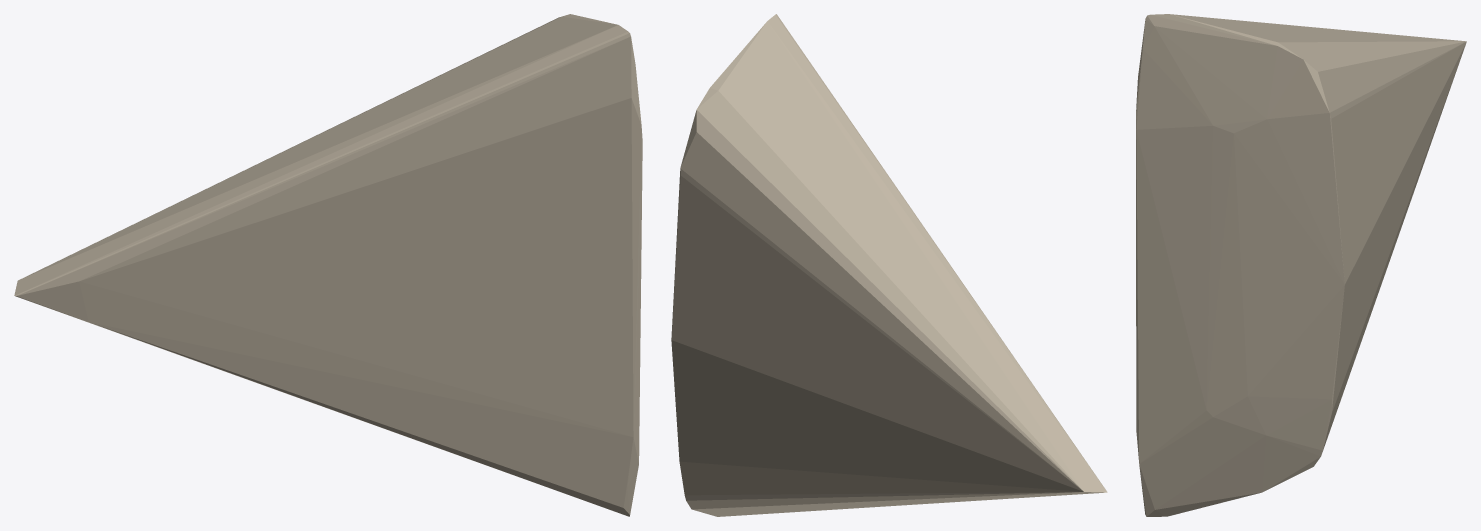
File: misc_eyeGlasses_b01.glb
3 renders of one model, left to right at view 1: azimuth 30°, elevation 25°; view 2: azimuth 150°, elevation 25°; view 3: azimuth 270°, elevation 25°, orthographic. The views are drawn at different scales.
Parts seen in each view (by area): view 1: geometry_0; view 2: geometry_0; view 3: geometry_0.
Part boxes in pixels (x1=…): geometry_0: x1=14, y1=14, x2=642, y2=516; geometry_0: x1=671, y1=14, x2=1107, y2=516; geometry_0: x1=1136, y1=14, x2=1466, y2=516.
Size of the model in its own units: 0.4779 by 0.4582 by 0.2733.
